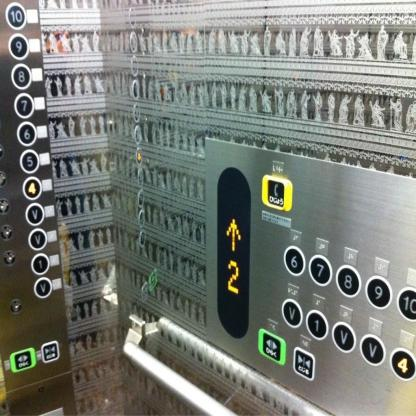1: (304, 309, 328, 340), (30, 253, 49, 275)
10: (4, 2, 27, 31), (397, 287, 415, 322)
4: (388, 348, 416, 380), (21, 176, 42, 199)
5: (17, 148, 40, 173)
6: (282, 241, 306, 277), (14, 119, 38, 146)
7: (308, 254, 332, 290), (13, 91, 35, 118)
8: (334, 264, 362, 297), (9, 61, 32, 90)
9: (364, 275, 392, 308), (6, 30, 30, 60)
V: (359, 333, 385, 365), (331, 321, 356, 353), (281, 298, 303, 327), (27, 226, 47, 251), (24, 202, 44, 225), (33, 276, 51, 299)
call: (260, 172, 292, 214)
close: (292, 346, 315, 381), (40, 338, 60, 363)
led: (216, 167, 250, 338)
open: (258, 328, 286, 365), (9, 345, 37, 374)
